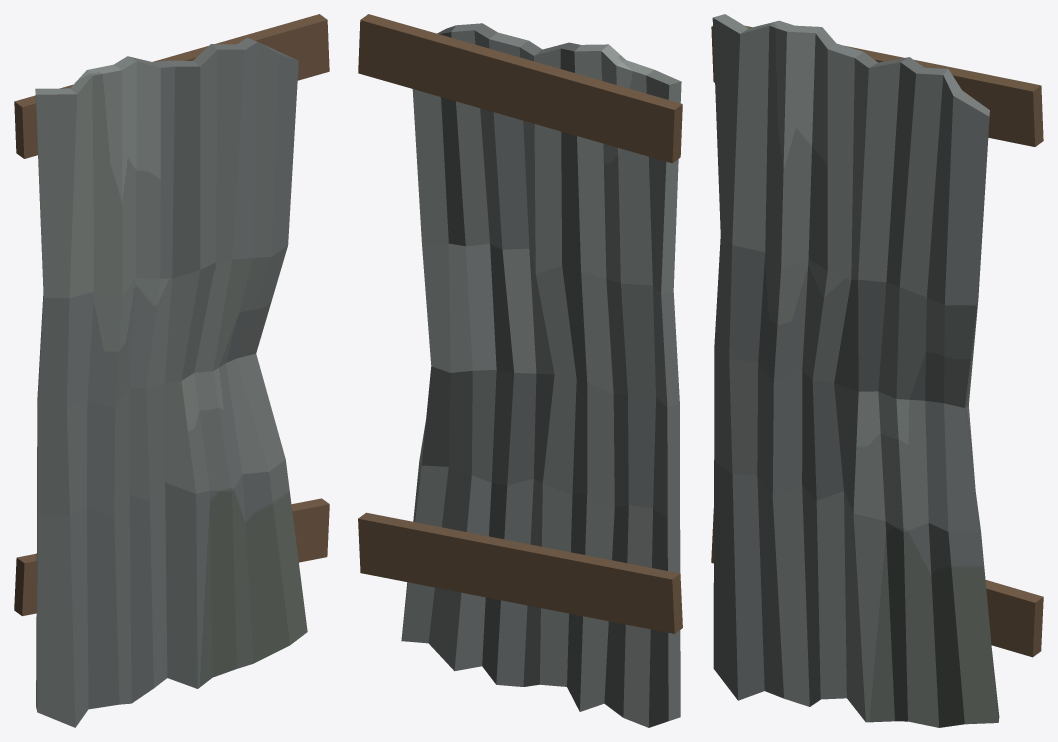
The model's file is SM_Door_Baricade_D.gltf.
3 views of the same model, side by side, from view 1: azimuth 30°, elevation 25°; view 2: azimuth 150°, elevation 25°; view 3: azimuth 330°, elevation 25° (orthographic). The views are drawn at different scales.
Visible parts, largest first — view 1: SM_Door_Baricade_D; view 2: SM_Door_Baricade_D; view 3: SM_Door_Baricade_D.
Boxes of the visible parts, x1,y1,x2,y2 form: SM_Door_Baricade_D: [14, 14, 329, 727]; SM_Door_Baricade_D: [358, 14, 682, 727]; SM_Door_Baricade_D: [711, 14, 1043, 727].
Bounding box in the file's own units: 0.9624 × 1.93 × 0.1571.
Materials: 1 (1 with a texture image).
